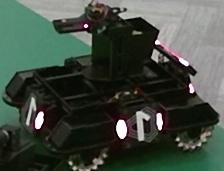armor_1: (117, 113, 163, 139)
